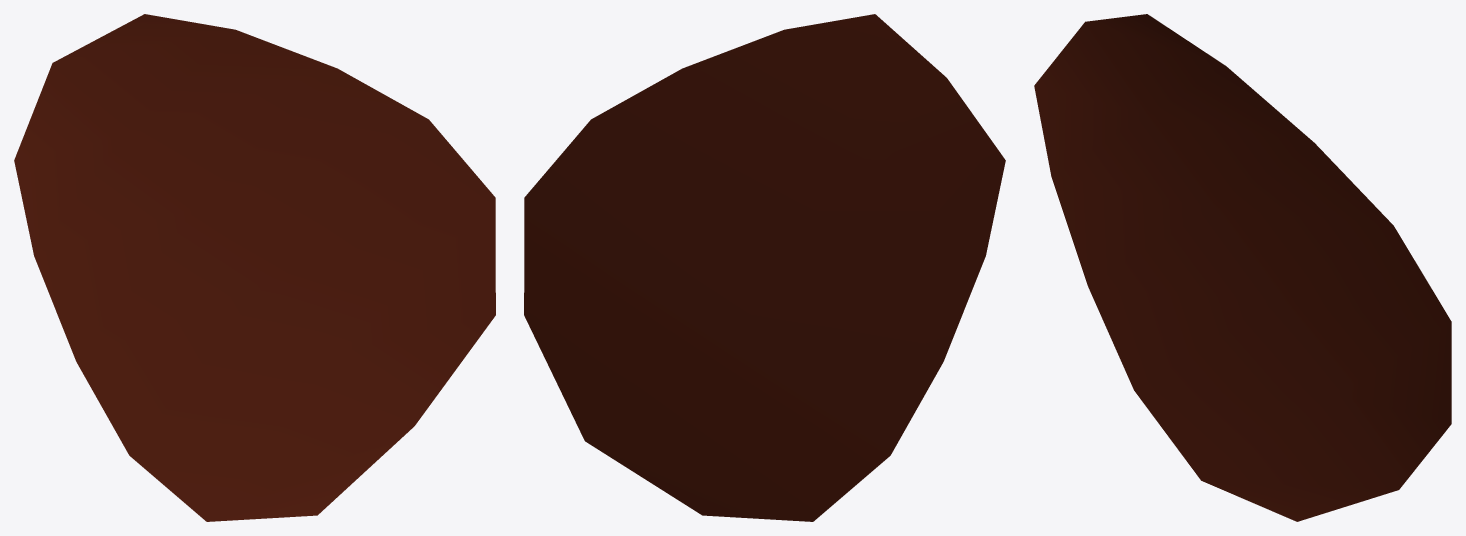
The model's file is finch_feather_flight_tertiary_058.obj.
The picture shows the model from 3 angles, left to right: view 1: azimuth 30°, elevation 25°; view 2: azimuth 150°, elevation 25°; view 3: azimuth 330°, elevation 25°; orthographic projection. The views are drawn at different scales.
Parts seen in each view (by area): view 1: feather_flight_tertiary_058; view 2: feather_flight_tertiary_058; view 3: feather_flight_tertiary_058.
Part boxes in pixels (x1,y1,x2,y2): feather_flight_tertiary_058: (14, 14, 495, 521); feather_flight_tertiary_058: (524, 14, 1005, 521); feather_flight_tertiary_058: (1034, 14, 1451, 521).
Bounding box in the file's own units: 0.00416 × 0.00449 × 0.000153.
